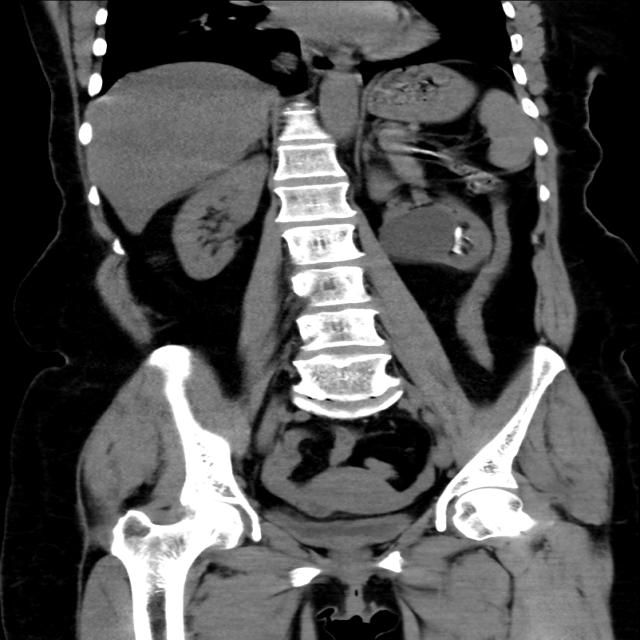kidneystone: (451, 225, 466, 254)
